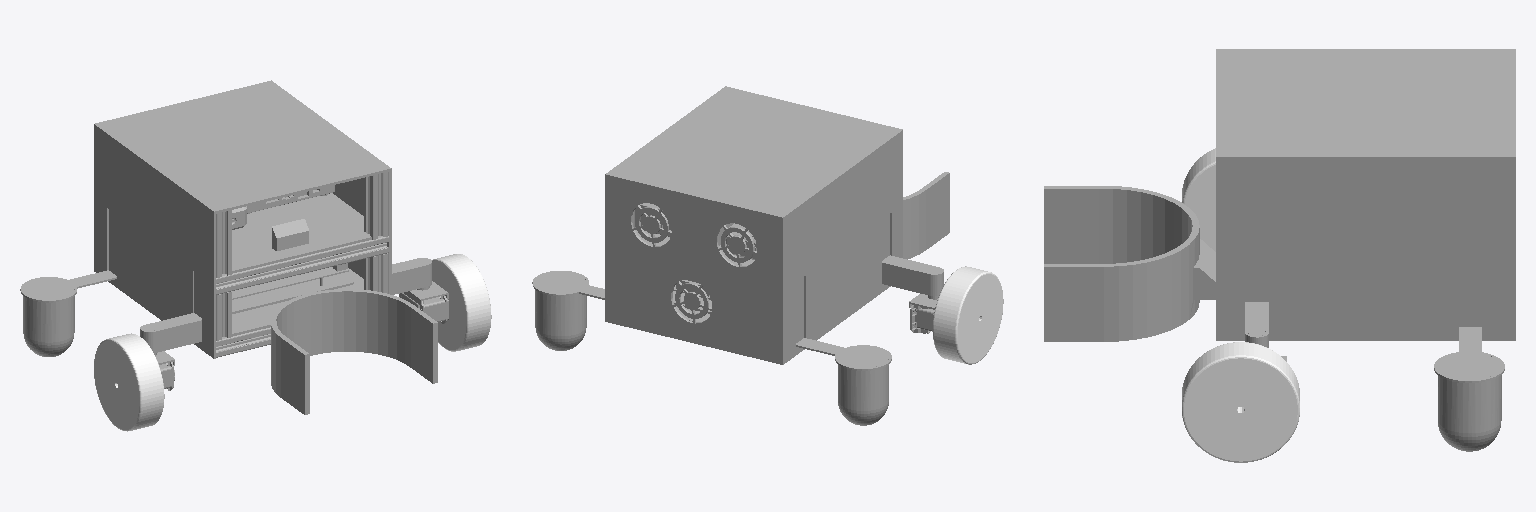
robot.urdf — wheelball:
<?xml version="1.0" encoding="utf-8"?>
<!-- This URDF was automatically created by SolidWorks to URDF Exporter! Originally created by [author] ([email redacted]) 
     Commit Version: 1.5.1-0-g916b5db  Build Version: 1.5.7152.31018
     For more information, please see http://wiki.ros.org/sw_urdf_exporter -->
<robot
  name="wheelball">
  <link
    name="base_link">
    <inertial>
      <origin
        xyz="0.000885138044595191 0.0915699924718767 -0.0157912683455384"
        rpy="0 0 0" />
      <mass
        value="5.32485366509133" />
      <inertia
        ixx="0.0219378727233068"
        ixy="-4.01751561825444E-06"
        ixz="-1.47975198130989E-06"
        iyy="0.0232029020939229"
        iyz="-8.06521337684411E-06"
        izz="0.0149048926646327" />
    </inertial>
    <visual>
      <origin
        xyz="0 0 0"
        rpy="0 0 0" />
      <geometry>
        <mesh
          filename="package://wheelball/meshes/base_link.STL" />
      </geometry>
      <material
        name="">
        <color
          rgba="0.752941176470588 0.752941176470588 0.752941176470588 1" />
      </material>
    </visual>
    <collision>
      <origin
        xyz="0 0 0"
        rpy="0 0 0" />
      <geometry>
        <mesh
          filename="package://wheelball/meshes/base_link.STL" />
      </geometry>
    </collision>
  </link>
  <link
    name="RFS">
    <inertial>
      <origin
        xyz="0.0724473276378503 -0.00242306558271334 -0.0667549990091164"
        rpy="0 0 0" />
      <mass
        value="0.26437001106024" />
      <inertia
        ixx="3.20746276473134E-05"
        ixy="1.44118283521328E-07"
        ixz="6.30853084344763E-08"
        iyy="6.22704126338856E-05"
        iyz="-2.01894652764198E-07"
        izz="6.28519936954001E-05" />
    </inertial>
    <visual>
      <origin
        xyz="0 0 0"
        rpy="0 0 0" />
      <geometry>
        <mesh
          filename="package://wheelball/meshes/RFS.STL" />
      </geometry>
      <material
        name="">
        <color
          rgba="0.752941176470588 0.752941176470588 0.752941176470588 1" />
      </material>
    </visual>
    <collision>
      <origin
        xyz="0 0 0"
        rpy="0 0 0" />
      <geometry>
        <mesh
          filename="package://wheelball/meshes/RFS.STL" />
      </geometry>
    </collision>
  </link>
  <joint
    name="RFS"
    type="fixed">
    <origin
      xyz="-0.21292 -0.11437 -0.037202"
      rpy="2.834 0 0" />
    <parent
      link="base_link" />
    <child
      link="RFS" />
    <axis
      xyz="0 0 0" />
    <limit
      lower="0"
      upper="0"
      effort="0"
      velocity="0" />
  </joint>
  <link
    name="RFW">
    <inertial>
      <origin
        xyz="0.014171 0 -1.3878E-17"
        rpy="0 0 0" />
      <mass
        value="0.23877" />
      <inertia
        ixx="0.00029907"
        ixy="-3.9717E-37"
        ixz="7.3408E-37"
        iyy="0.00016737"
        iyz="-8.4703E-22"
        izz="0.00016737" />
    </inertial>
    <visual>
      <origin
        xyz="0 0 0"
        rpy="0 0 0" />
      <geometry>
        <mesh
          filename="package://wheelball/meshes/RFW.STL" />
      </geometry>
      <material
        name="">
        <color
          rgba="1 1 1 1" />
      </material>
    </visual>
    <collision>
      <origin
        xyz="0 0 0"
        rpy="0 0 0" />
      <geometry>
        <mesh
          filename="package://wheelball/meshes/RFW.STL" />
      </geometry>
    </collision>
  </link>
  <joint
    name="RFW"
    type="continuous">
    <origin
      xyz="0 0.00097405 -0.03369"
      rpy="-1.3077 0 0" />
    <parent
      link="RFS" />
    <child
      link="RFW" />
    <axis
      xyz="1 0 0" />
    <limit
      effort="3.1"
      velocity="7" />
  </joint>
  <link
    name="LFS">
    <inertial>
      <origin
        xyz="0.0666875210853817 0.00364278355332748 -0.0648369138582874"
        rpy="0 0 0" />
      <mass
        value="0.26437001106024" />
      <inertia
        ixx="3.20746276473134E-05"
        ixy="-1.4411828352132E-07"
        ixz="-6.30853084344762E-08"
        iyy="6.22704126338856E-05"
        iyz="-2.01894652764187E-07"
        izz="6.28519936954001E-05" />
    </inertial>
    <visual>
      <origin
        xyz="0 0 0"
        rpy="0 0 0" />
      <geometry>
        <mesh
          filename="package://wheelball/meshes/LFS.STL" />
      </geometry>
      <material
        name="">
        <color
          rgba="0.752941176470588 0.752941176470588 0.752941176470588 1" />
      </material>
    </visual>
    <collision>
      <origin
        xyz="0 0 0"
        rpy="0 0 0" />
      <geometry>
        <mesh
          filename="package://wheelball/meshes/LFS.STL" />
      </geometry>
    </collision>
  </link>
  <joint
    name="LFS"
    type="fixed">
    <origin
      xyz="0.20716 -0.075688 -0.037202"
      rpy="2.834 0 3.1416" />
    <parent
      link="base_link" />
    <child
      link="LFS" />
    <axis
      xyz="0 0 0" />
    <limit
      lower="0"
      upper="0"
      effort="0"
      velocity="0" />
  </joint>
  <link
    name="LFW">
    <inertial>
      <origin
        xyz="-0.00841099113507679 -1.38777878078145E-17 0"
        rpy="0 0 0" />
      <mass
        value="0.238771211024828" />
      <inertia
        ixx="0.000299070391410013"
        ixy="3.54440352668465E-22"
        ixz="-1.84333746845529E-21"
        iyy="0.000167368400731884"
        iyz="6.7762635780344E-21"
        izz="0.000167368400731884" />
    </inertial>
    <visual>
      <origin
        xyz="0 0 0"
        rpy="0 0 0" />
      <geometry>
        <mesh
          filename="package://wheelball/meshes/LFW.STL" />
      </geometry>
      <material
        name="">
        <color
          rgba="1 1 1 1" />
      </material>
    </visual>
    <collision>
      <origin
        xyz="0 0 0"
        rpy="0 0 0" />
      <geometry>
        <mesh
          filename="package://wheelball/meshes/LFW.STL" />
      </geometry>
    </collision>
  </link>
  <joint
    name="LFW"
    type="continuous">
    <origin
      xyz="0 -0.018219 -0.039786"
      rpy="-0.026787 0 3.1416" />
    <parent
      link="LFS" />
    <child
      link="LFW" />
    <axis
      xyz="1 0 0" />
    <limit
      effort="3.1"
      velocity="7" />
  </joint>
  <link
    name="RBS">
    <inertial>
      <origin
        xyz="-0.00678676998851023 0.0106702734987945 0.0591953733266077"
        rpy="0 0 0" />
      <mass
        value="0.11410709738518" />
      <inertia
        ixx="7.89414159986181E-05"
        ixy="5.55241337234204E-22"
        ixz="1.14721099197346E-06"
        iyy="5.15117788979022E-05"
        iyz="5.87979936265405E-21"
        izz="7.8389894275756E-05" />
    </inertial>
    <visual>
      <origin
        xyz="0 0 0"
        rpy="0 0 0" />
      <geometry>
        <mesh
          filename="package://wheelball/meshes/RBS.STL" />
      </geometry>
      <material
        name="">
        <color
          rgba="0.752941176470588 0.752941176470588 0.752941176470588 1" />
      </material>
    </visual>
    <collision>
      <origin
        xyz="0 0 0"
        rpy="0 0 0" />
      <geometry>
        <mesh
          filename="package://wheelball/meshes/RBS.STL" />
      </geometry>
    </collision>
  </link>
  <joint
    name="RBS"
    type="fixed">
    <origin
      xyz="-0.23339 0.12116 0"
      rpy="-1.5708 0 -2.2503" />
    <parent
      link="base_link" />
    <child
      link="RBS" />
    <axis
      xyz="0 0 0" />
    <limit
      lower="0"
      upper="0"
      effort="0"
      velocity="0" />
  </joint>
  <link
    name="LBS">
    <inertial>
      <origin
        xyz="-0.00678676998851024 0.0106702734987945 0.0591953733266076"
        rpy="0 0 0" />
      <mass
        value="0.11410709738518" />
      <inertia
        ixx="7.89414159986181E-05"
        ixy="1.76562008053687E-21"
        ixz="1.14721099197345E-06"
        iyy="5.15117788979022E-05"
        iyz="3.49030907985095E-21"
        izz="7.8389894275756E-05" />
    </inertial>
    <visual>
      <origin
        xyz="0 0 0"
        rpy="0 0 0" />
      <geometry>
        <mesh
          filename="package://wheelball/meshes/LBS.STL" />
      </geometry>
      <material
        name="">
        <color
          rgba="0.752941176470588 0.752941176470588 0.752941176470588 1" />
      </material>
    </visual>
    <collision>
      <origin
        xyz="0 0 0"
        rpy="0 0 0" />
      <geometry>
        <mesh
          filename="package://wheelball/meshes/LBS.STL" />
      </geometry>
    </collision>
  </link>
  <joint
    name="LBS"
    type="fixed">
    <origin
      xyz="0.23339 0.055845 0"
      rpy="-1.5708 0 0.89134" />
    <parent
      link="base_link" />
    <child
      link="LBS" />
    <axis
      xyz="0 0 0" />
    <limit
      lower="0"
      upper="0"
      effort="0"
      velocity="0" />
  </joint>
  <link
    name="cam1">
    <inertial>
      <origin
        xyz="0.0498359970623519 0.0617836354899649 0.0687226594771384"
        rpy="0 0 0" />
      <mass
        value="0.0436119949785285" />
      <inertia
        ixx="4.2947907827665E-06"
        ixy="-8.85484503942536E-10"
        ixz="-1.01834758012153E-09"
        iyy="2.21058144654638E-05"
        iyz="2.17579332532723E-08"
        izz="2.35707056099602E-05" />
    </inertial>
    <visual>
      <origin
        xyz="0 0 0"
        rpy="0 0 0" />
      <geometry>
        <mesh
          filename="package://wheelball/meshes/cam1.STL" />
      </geometry>
      <material
        name="">
        <color
          rgba="0.792156862745098 0.819607843137255 0.933333333333333 1" />
      </material>
    </visual>
    <collision>
      <origin
        xyz="0 0 0"
        rpy="0 0 0" />
      <geometry>
        <mesh
          filename="package://wheelball/meshes/cam1.STL" />
      </geometry>
    </collision>
  </link>
  <joint
    name="cam1"
    type="fixed">
    <origin
      xyz="-0.049835 -0.022219 0.13322"
      rpy="2.3562 0 0" />
    <parent
      link="base_link" />
    <child
      link="cam1" />
    <axis
      xyz="0 0 0" />
  </joint>
  <link
    name="cam2">
    <inertial>
      <origin
        xyz="0.049835996894939 0.0617836354959193 0.068722659224057"
        rpy="0 0 0" />
      <mass
        value="0.0436119950287128" />
      <inertia
        ixx="4.29479133591154E-06"
        ixy="-8.85791114080511E-10"
        ixz="-1.01813691697105E-09"
        iyy="2.21058141232448E-05"
        iyz="2.17579681215265E-08"
        izz="2.357070580464E-05" />
    </inertial>
    <visual>
      <origin
        xyz="0 0 0"
        rpy="0 0 0" />
      <geometry>
        <mesh
          filename="package://wheelball/meshes/cam2.STL" />
      </geometry>
      <material
        name="">
        <color
          rgba="0.792156862745098 0.819607843137255 0.933333333333333 1" />
      </material>
    </visual>
    <collision>
      <origin
        xyz="0 0 0"
        rpy="0 0 0" />
      <geometry>
        <mesh
          filename="package://wheelball/meshes/cam2.STL" />
      </geometry>
    </collision>
  </link>
  <joint
    name="cam2"
    type="fixed">
    <origin
      xyz="-0.049839 -0.046422 0.10251"
      rpy="1.5708 0 0" />
    <parent
      link="base_link" />
    <child
      link="cam2" />
    <axis
      xyz="0 0 0" />
    <limit
      lower="0"
      upper="0"
      effort="0"
      velocity="0" />
  </joint>
  <link
    name="lidar">
    <inertial>
      <origin
        xyz="-0.0784930224983973 -0.744427433893901 -0.133449662311106"
        rpy="0 0 0" />
      <mass
        value="0.0730845709360323" />
      <inertia
        ixx="1.9580875692911E-05"
        ixy="4.28391199656797E-07"
        ixz="-1.03933596052725E-07"
        iyy="4.14184516232486E-05"
        iyz="-9.42707888853209E-09"
        izz="2.41250079747142E-05" />
    </inertial>
    <visual>
      <origin
        xyz="0 0 0"
        rpy="0 0 0" />
      <geometry>
        <mesh
          filename="package://wheelball/meshes/lidar.STL" />
      </geometry>
      <material
        name="">
        <color
          rgba="0.792156862745098 0.819607843137255 0.933333333333333 1" />
      </material>
    </visual>
    <collision>
      <origin
        xyz="0 0 0"
        rpy="0 0 0" />
      <geometry>
        <mesh
          filename="package://wheelball/meshes/lidar.STL" />
      </geometry>
    </collision>
  </link>
  <joint
    name="lidar"
    type="fixed">
    <origin
      xyz="0.13292 -0.027939 -0.53869"
      rpy="-1.5708 0 -1.5708" />
    <parent
      link="base_link" />
    <child
      link="lidar" />
    <axis
      xyz="0 0 0" />
    <limit
      lower="0"
      upper="0"
      effort="0"
      velocity="0" />
  </joint>
</robot>

--- Facts derived from the render (not from the file) ---
Views: 3 orthographic renders of the robot side by side, from view 1: azimuth 30°, elevation 25°; view 2: azimuth 150°, elevation 25°; view 3: azimuth 270°, elevation 25°.
Robot: wheelball — 10 links, 9 joints (2 continuous, 7 fixed); root link base_link; default pose: all joints at 0.
Visible links, largest first — view 1: base_link, RFW, RBS, LFW, LFS, RFS; view 2: base_link, RFW, RBS, LBS, RFS; view 3: base_link, LFW, LBS, RFW, LFS.
Link boxes in pixels (x1=…): base_link: x1=94, y1=80, x2=437, y2=414; RFW: x1=94, y1=333, x2=164, y2=431; RBS: x1=20, y1=270, x2=116, y2=356; LFW: x1=432, y1=254, x2=491, y2=351; LFS: x1=392, y1=258, x2=448, y2=323; RFS: x1=140, y1=313, x2=201, y2=390; base_link: x1=605, y1=86, x2=949, y2=364; RFW: x1=933, y1=266, x2=1003, y2=364; RBS: x1=796, y1=338, x2=891, y2=425; LBS: x1=532, y1=271, x2=604, y2=350; RFS: x1=882, y1=255, x2=943, y2=333; base_link: x1=1044, y1=49, x2=1515, y2=341; LFW: x1=1182, y1=342, x2=1299, y2=462; LBS: x1=1434, y1=327, x2=1504, y2=451; RFW: x1=1182, y1=148, x2=1215, y2=251; LFS: x1=1245, y1=302, x2=1286, y2=361.
Size in the robot's own frame: 0.4279 by 0.3973 by 0.2358 metres.
7 mesh visuals loaded from 10 distinct referenced files (7 binary STL); not drawn: 3 (reference not matched to a file when rendering).